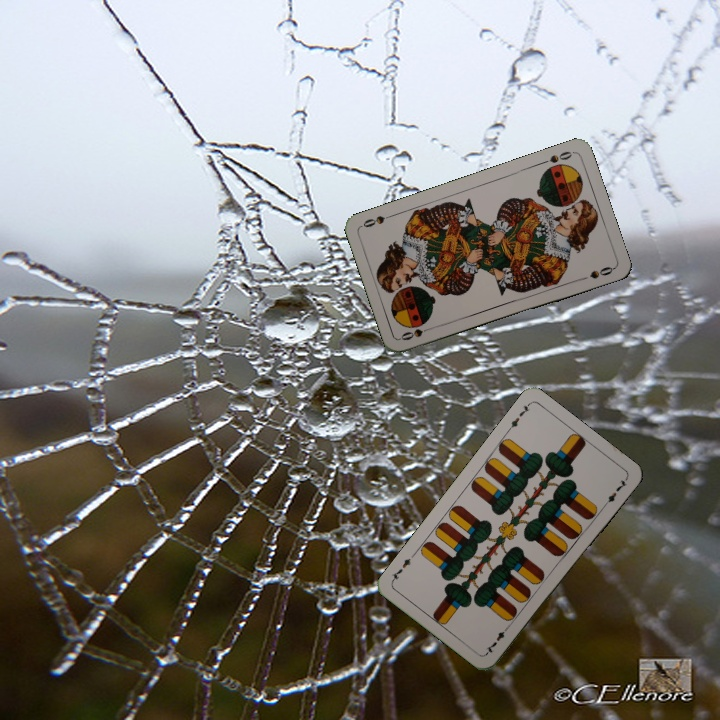E7: (503, 399, 533, 434), (482, 622, 512, 656)
SO: (397, 322, 437, 343), (536, 147, 576, 167)
